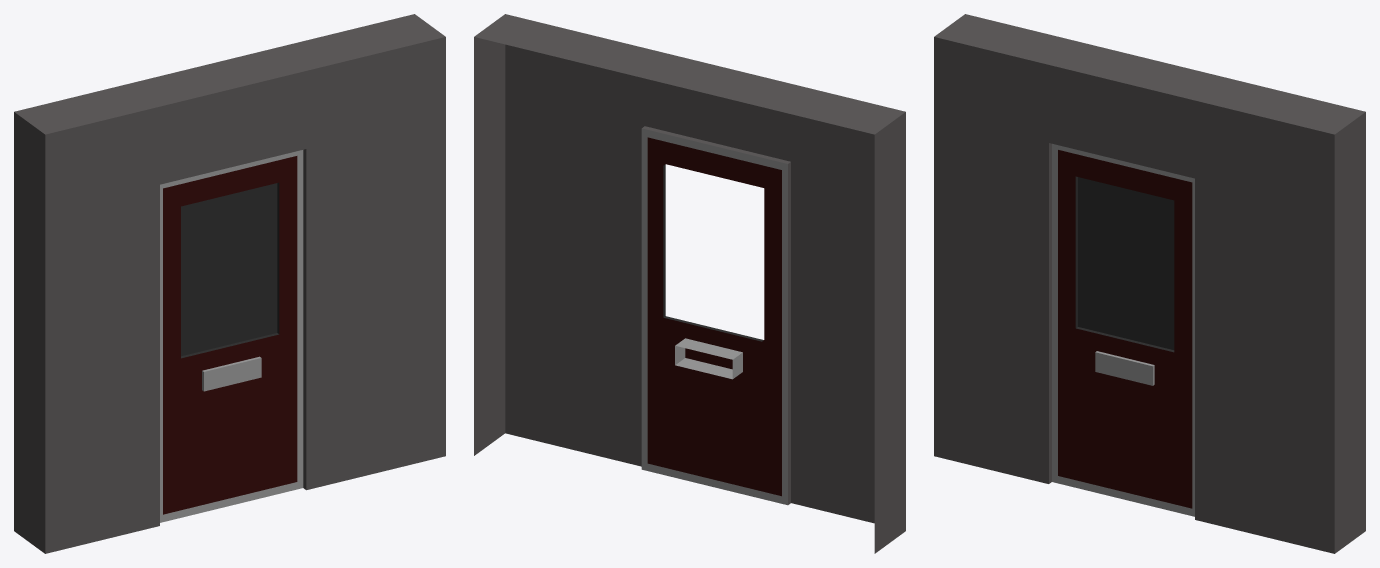
File: ground_floor_wall_01.fbx
3 views of the same model, side by side, from view 1: azimuth 30°, elevation 25°; view 2: azimuth 150°, elevation 25°; view 3: azimuth 330°, elevation 25° (orthographic).
Parts seen in each view (by area): view 1: ground_floor_wall_01; view 2: ground_floor_wall_01; view 3: ground_floor_wall_01.
Boxes of the visible parts, x1,y1,x2,y2 form: ground_floor_wall_01: (14, 14, 445, 553); ground_floor_wall_01: (474, 14, 905, 553); ground_floor_wall_01: (934, 14, 1365, 553).
Size of the model in its own units: 300 by 300 by 40.5.
